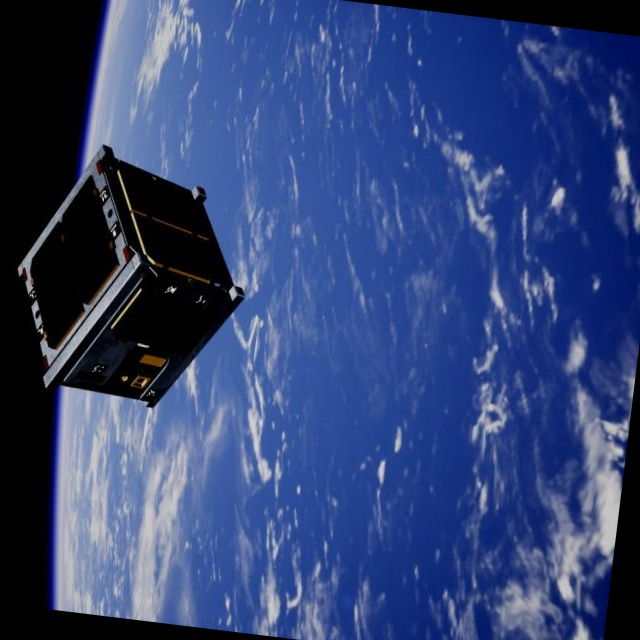satellite: (0, 135, 268, 420)
